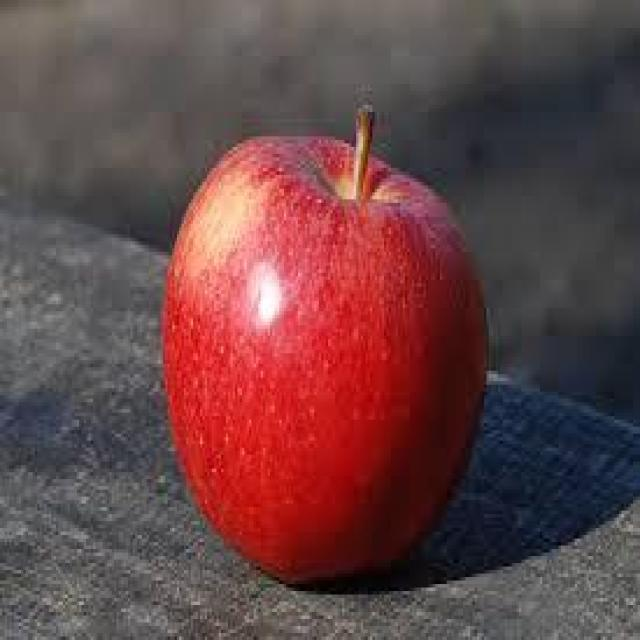maca: (158, 98, 489, 584)
